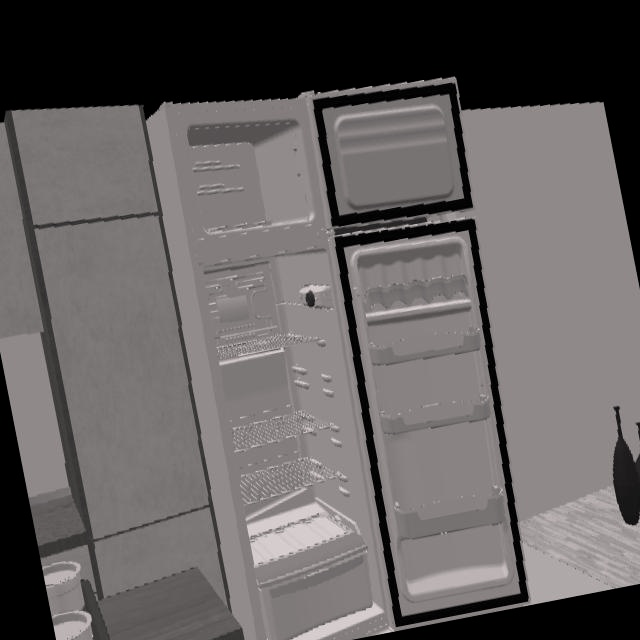fridge: (111, 78, 530, 640)
